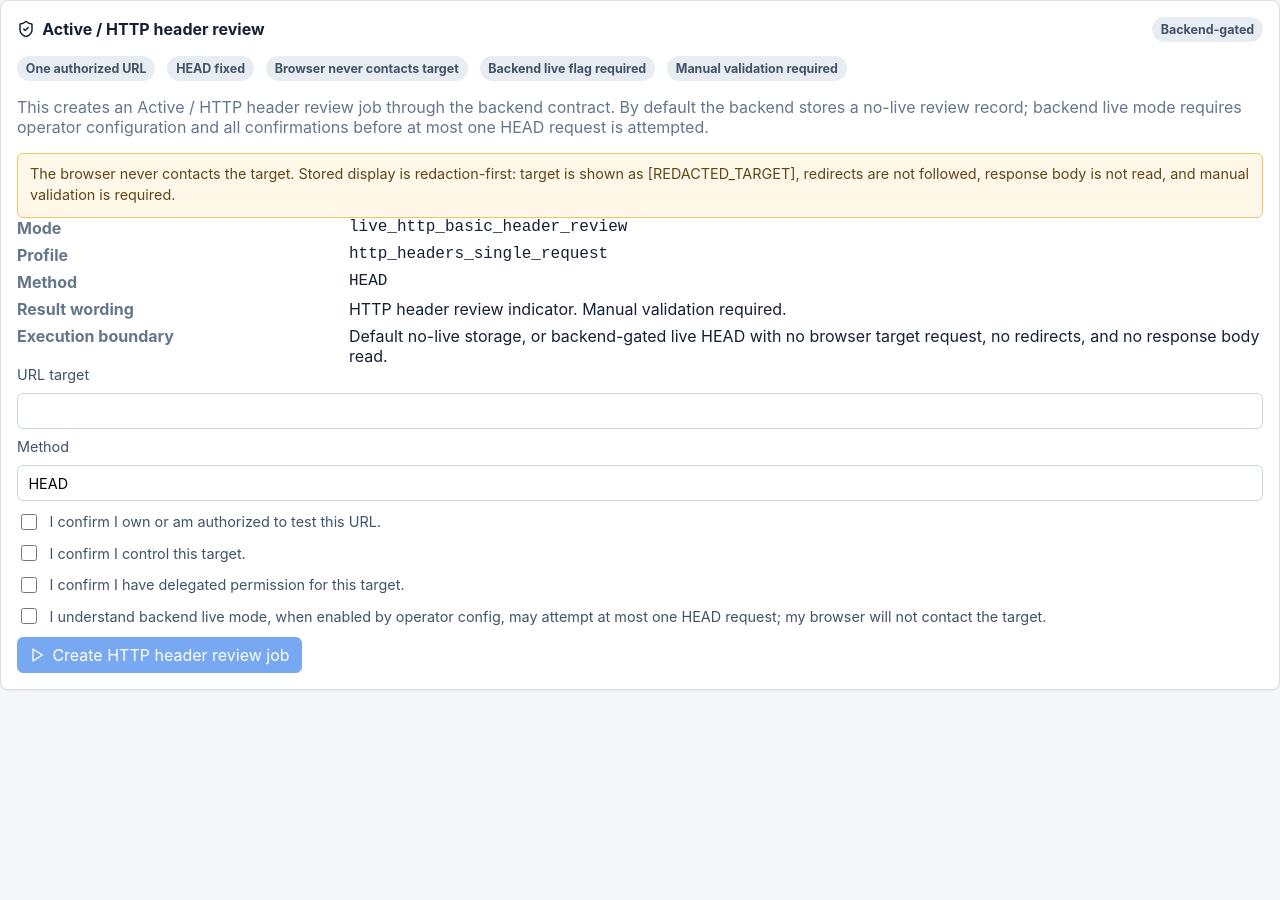
Scenario: ActiveHttpBasicHeaderReviewPanel › submits the exact backend contract and renders the returned no-live JobRecord
Type " https://authorized.example/ " into the field labelled "URL target" at point(640, 411), box [17,393,1263,429]
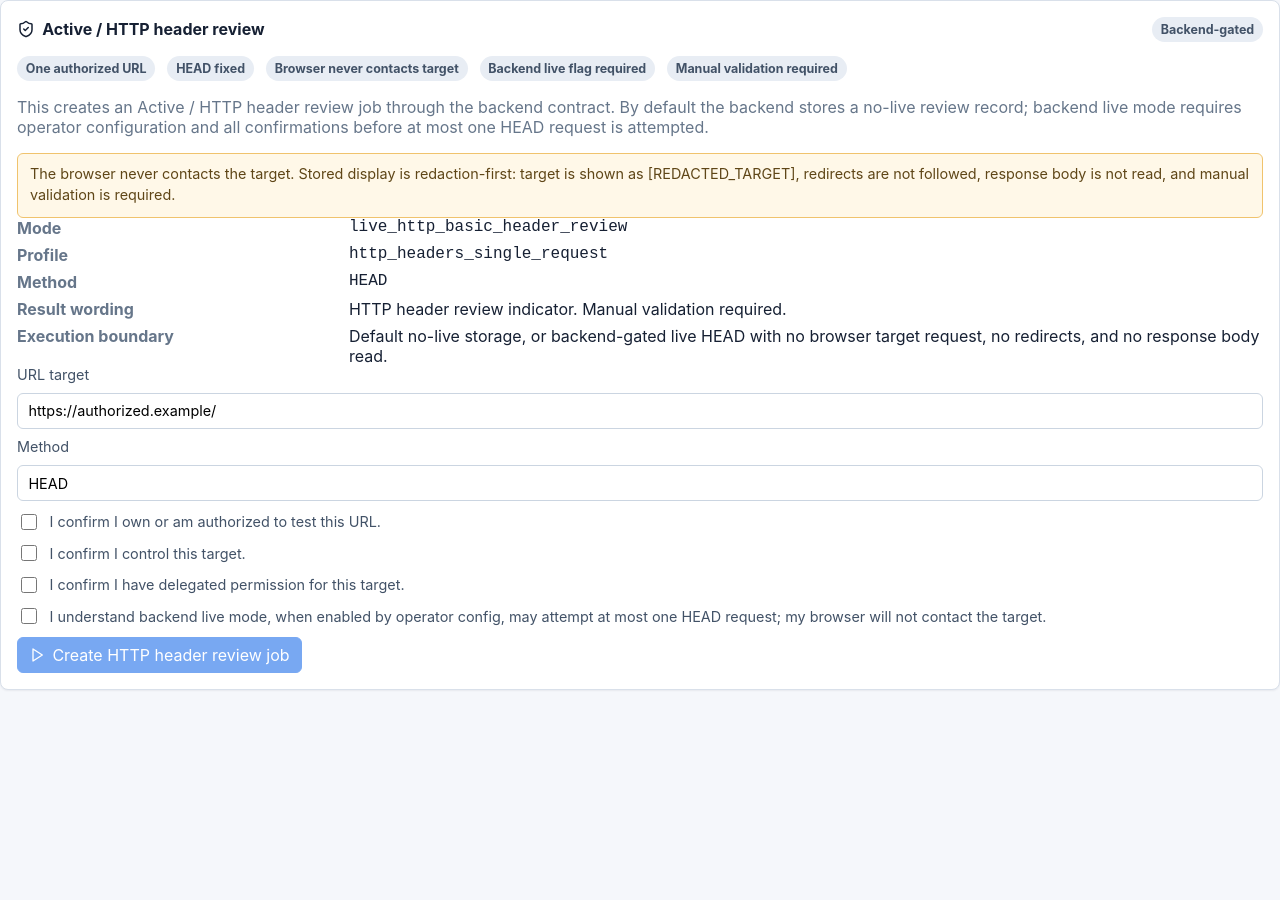
Click the checkbox labelled "I confirm I own or am authorized to test this URL." at point(29, 522), box [21,514,37,530]
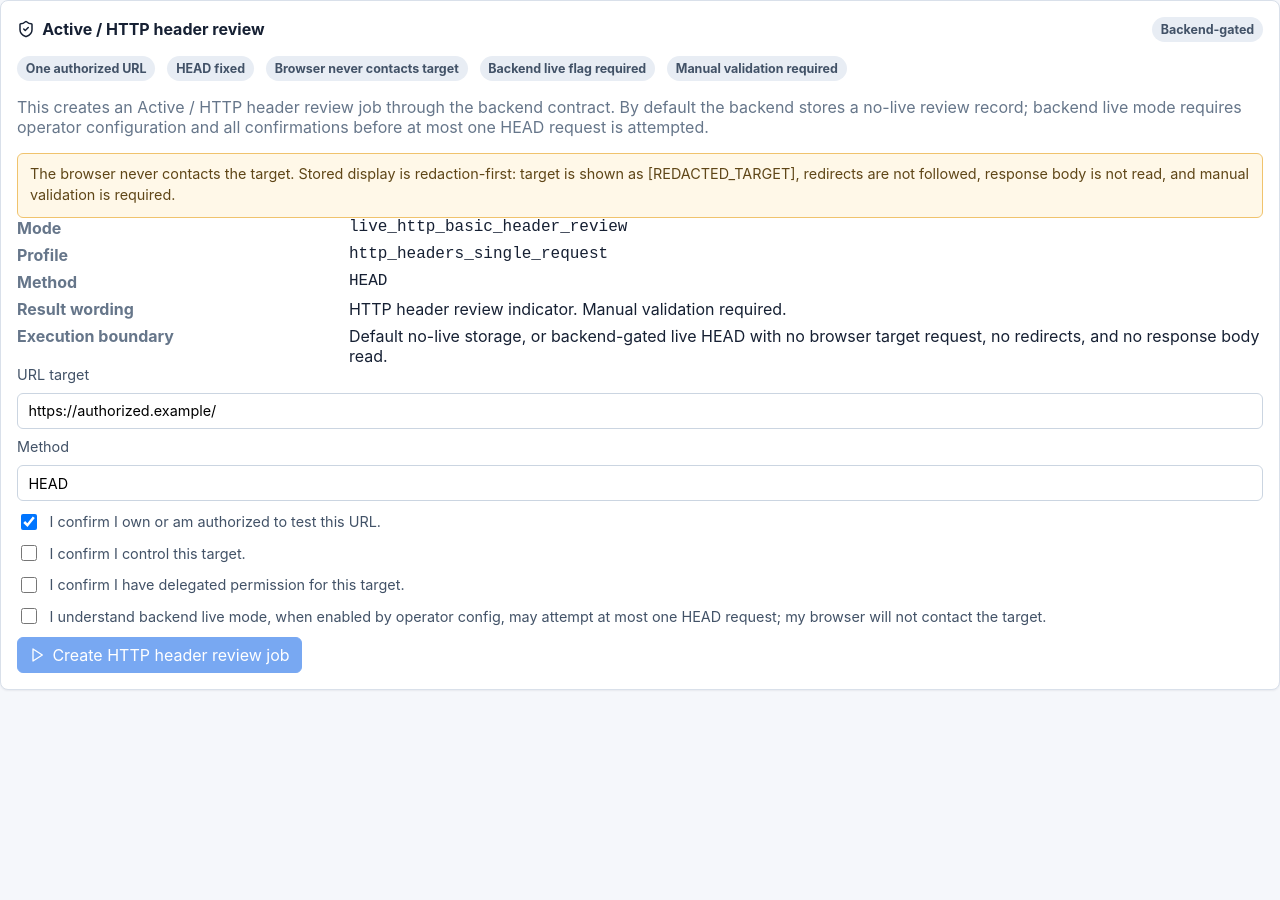
Click the checkbox labelled "I confirm I control this target." at point(29, 553), box [21,545,37,561]
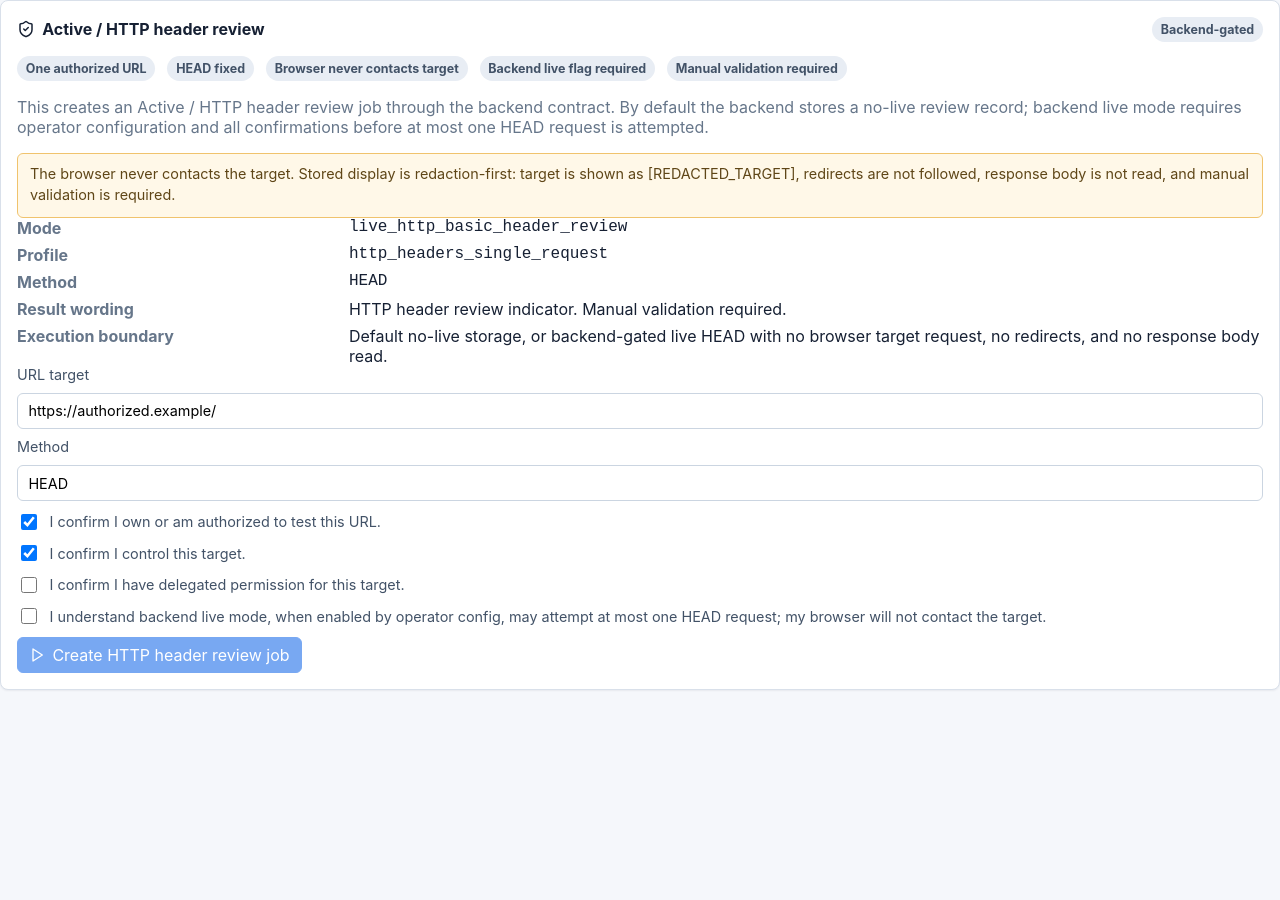
Click the checkbox named "I understand backend live mode, when enabled by operator config, may attempt at most one HEAD request; my browser will n" at point(29, 616), box [21,608,37,624]
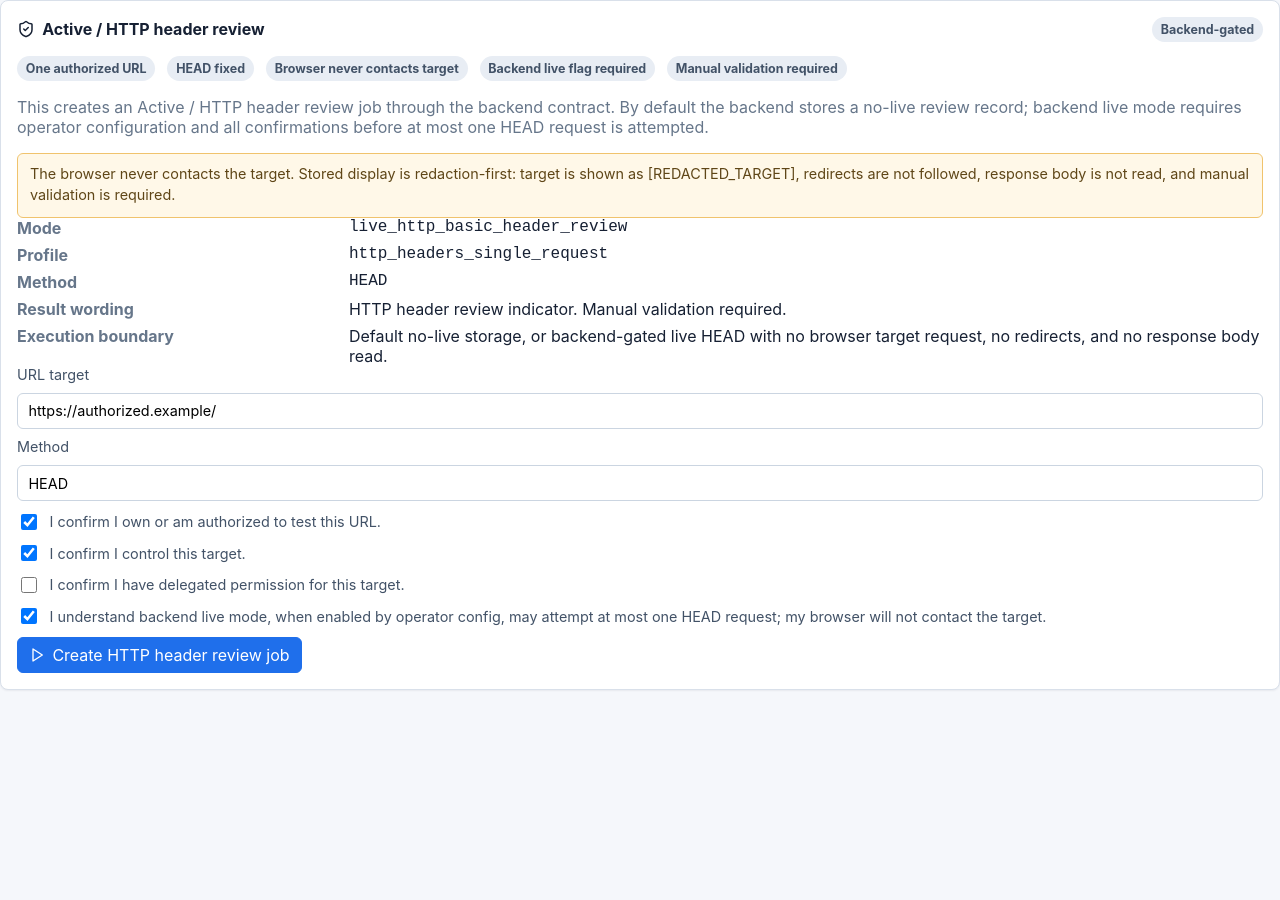
Click the button "Create HTTP header review job" at point(159, 655), box [17,637,302,673]
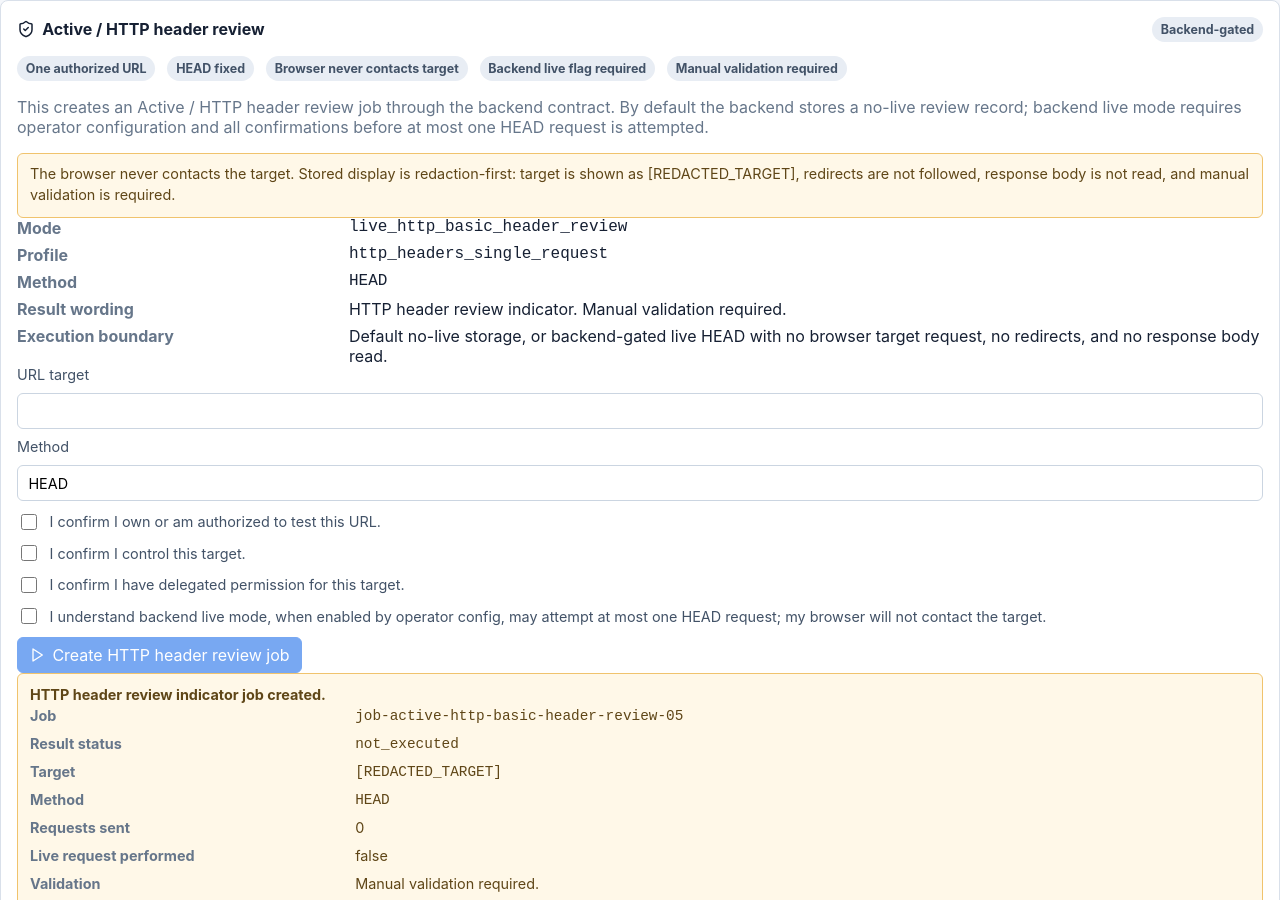
Expected: the text "HTTP header review indicator job created." is shown, [30,686,326,703]
Expected: the text "job-active-http-basic-header-review-05" is shown, [355,708,683,724]
Expected: the text "not_executed" is shown, [355,736,459,752]
